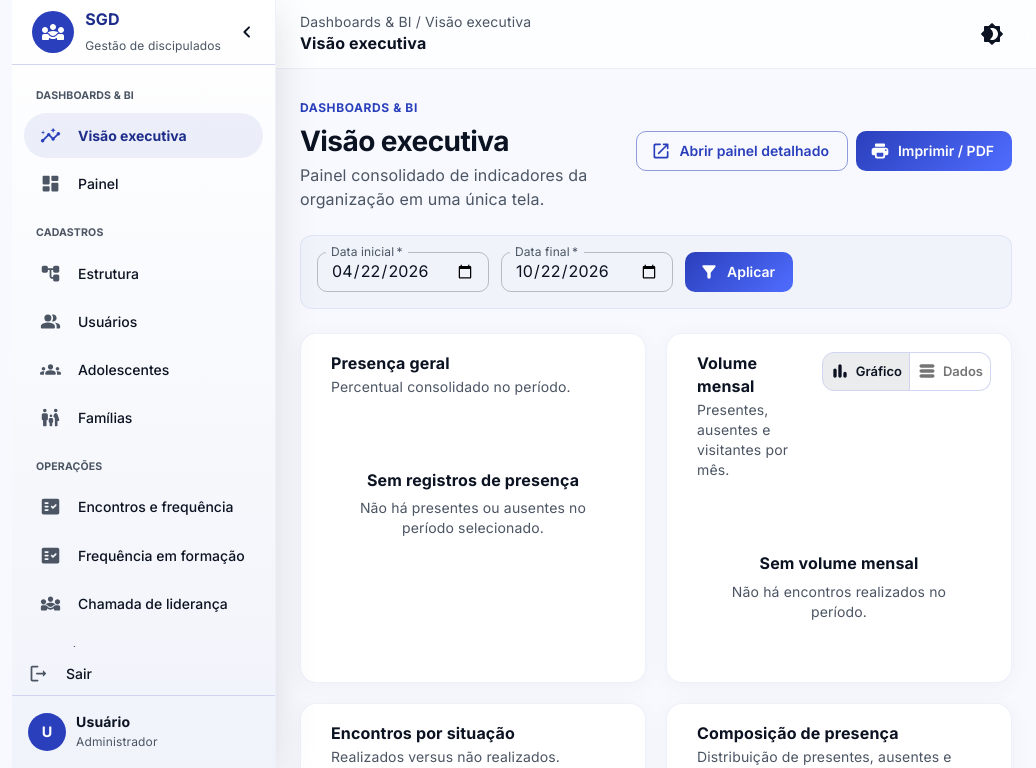
Test: navegação autenticada › usa o gênero correto no botão de criação da estrutura
Click the tab "Estrutura" at (144, 273), box [24, 251, 263, 296]
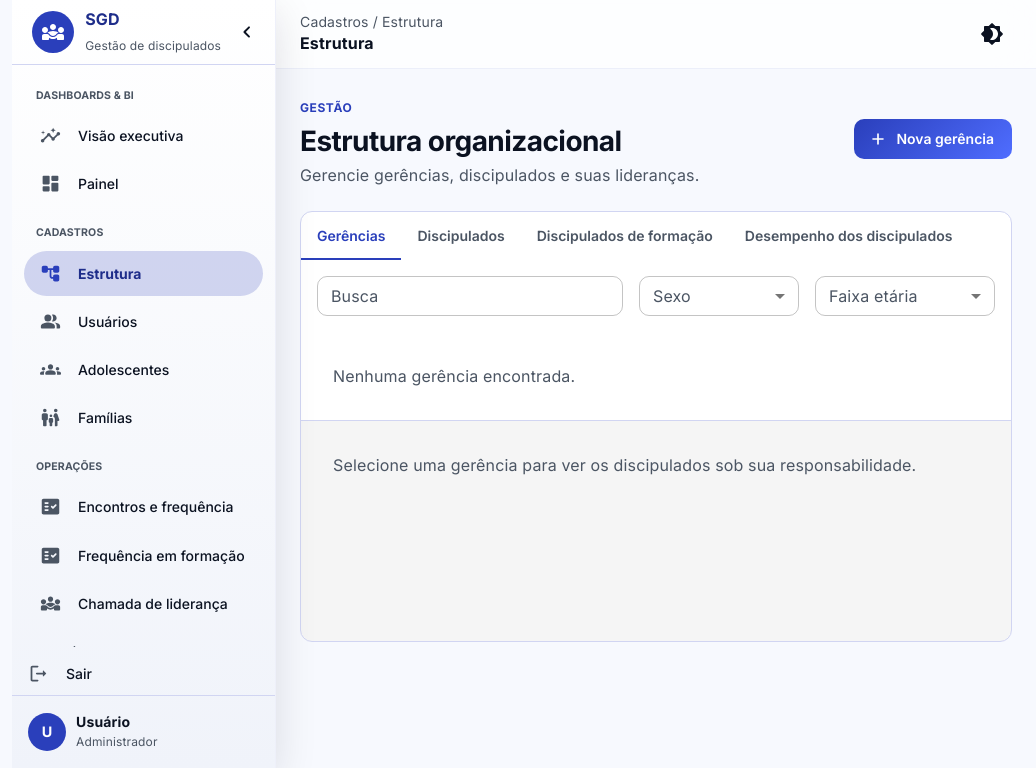
Expected: the button "Nova gerência" is shown, [854, 120, 1012, 160]
Click the tab "Discipulados" at (461, 236), box [401, 212, 521, 260]
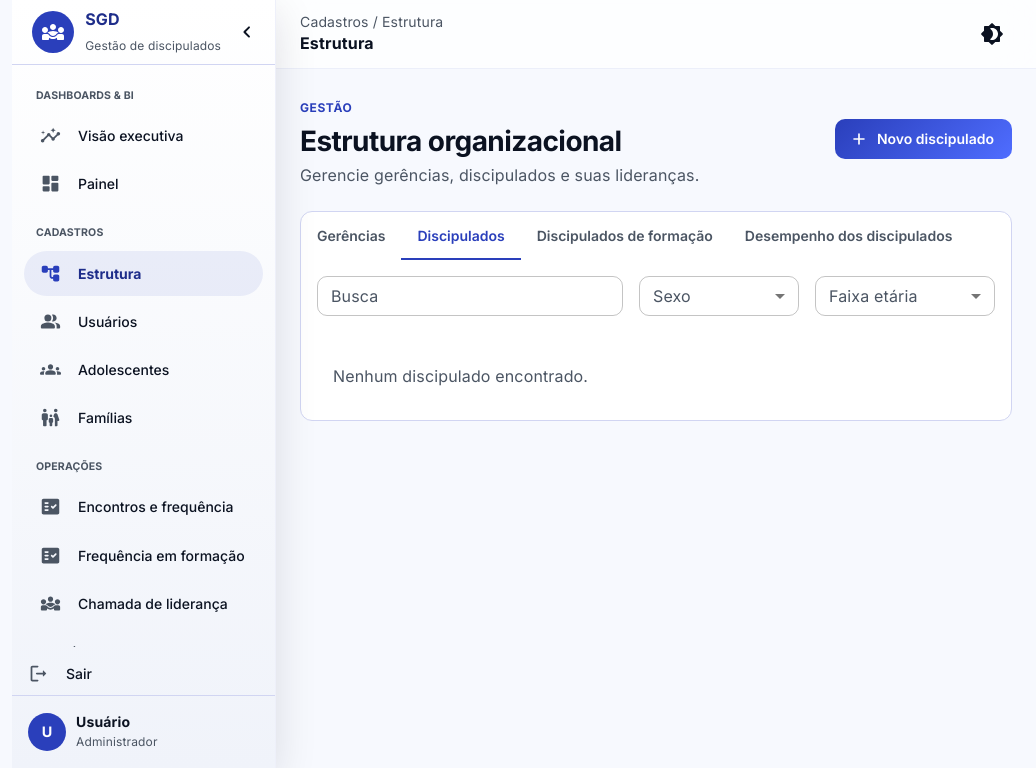
Expected: the button "Novo discipulado" is shown, [835, 120, 1012, 160]
Click the tab "Discipulados de formação" at (625, 236), box [521, 212, 729, 260]
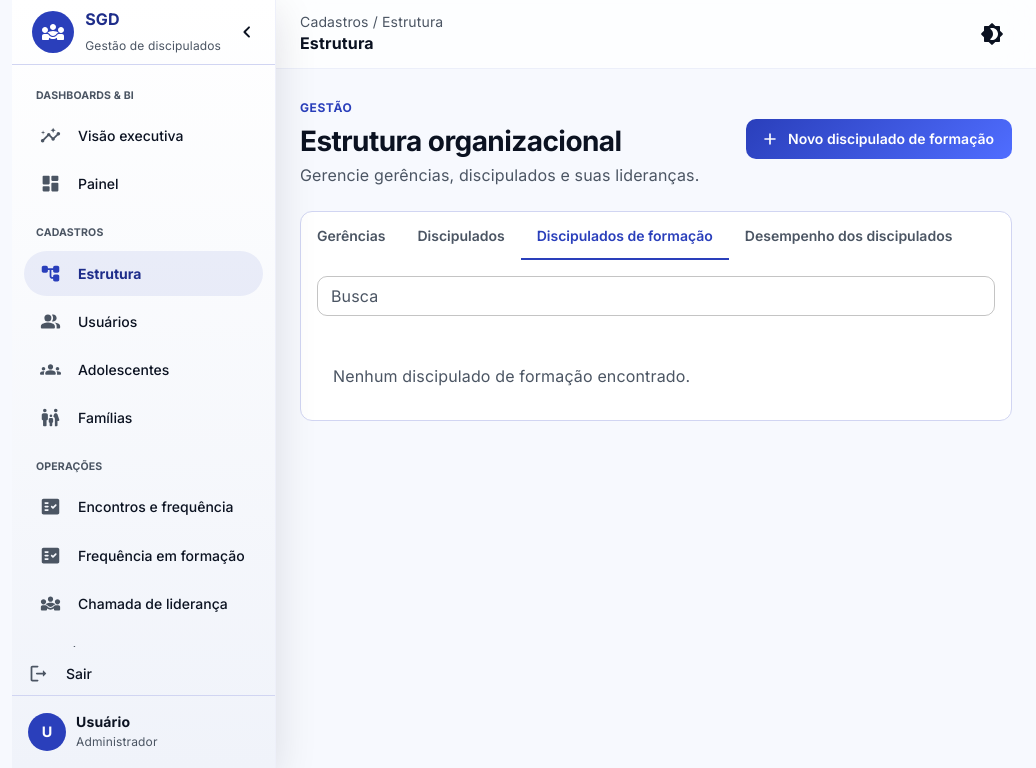
Expected: the button "Novo discipulado de formação" is shown, [746, 120, 1012, 160]
